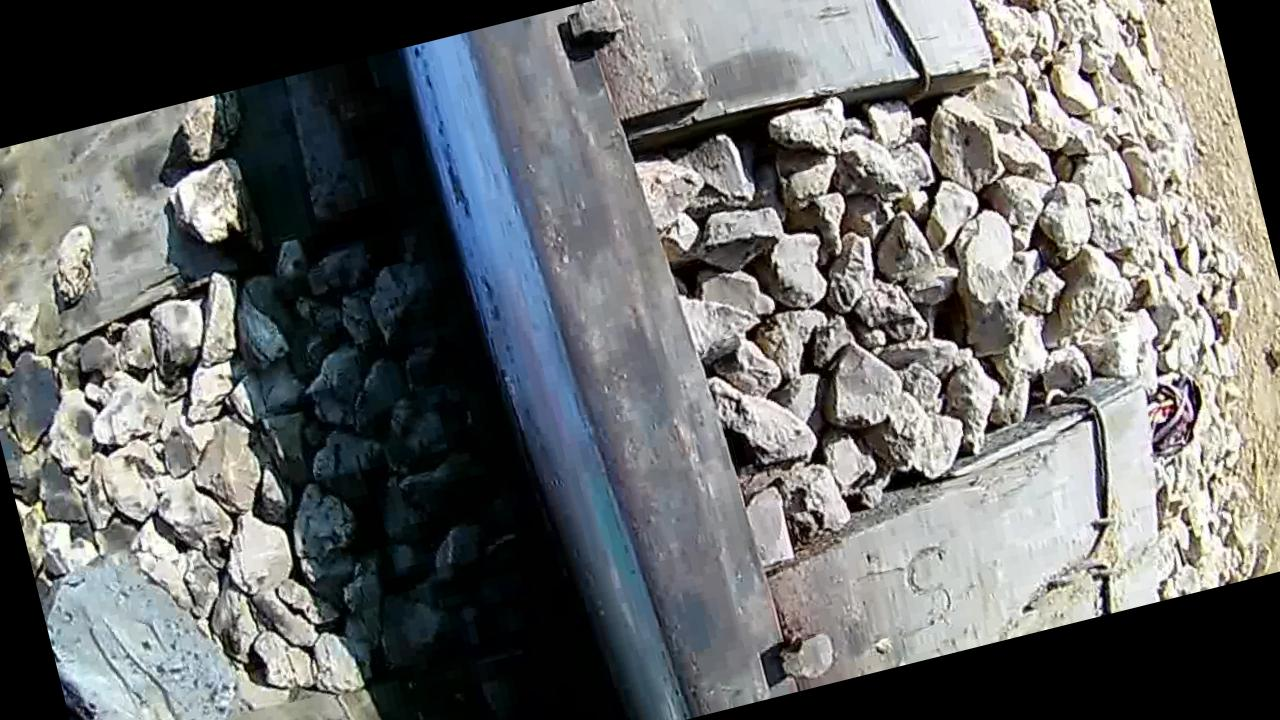crack: (403, 7, 742, 720)
